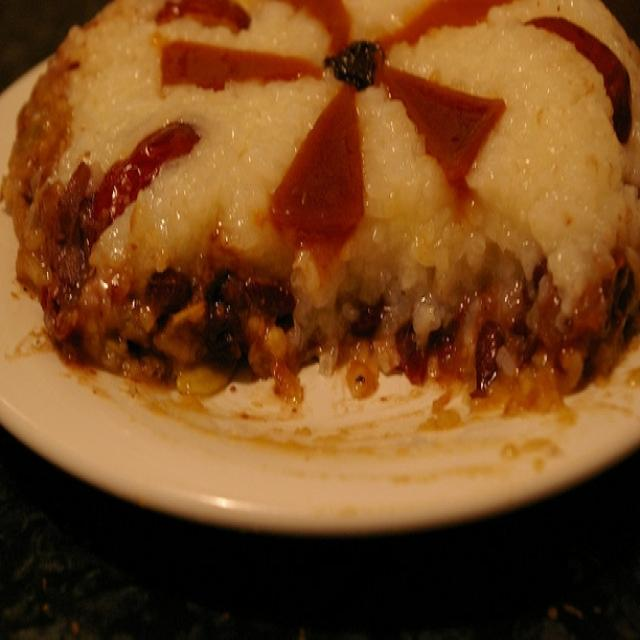米饭主食: (3, 5, 638, 525)
